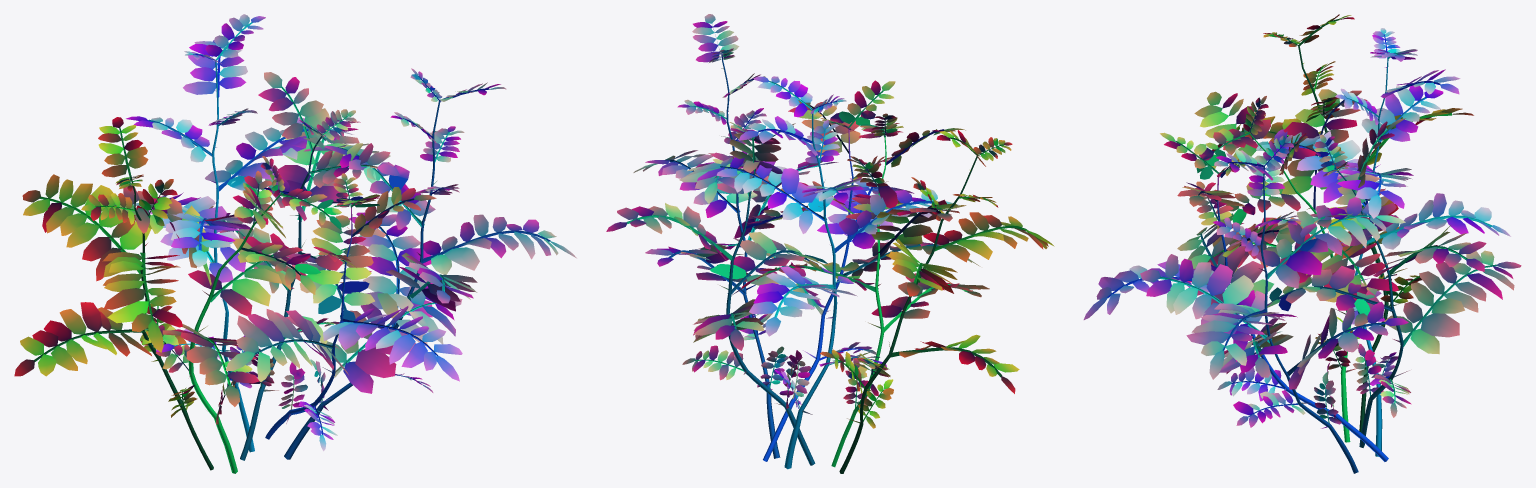
File: Black_Locust_wdvhberja_Mid_wdvhberja_VarD_LOD0.fbx
3 views of the same model, side by side, from view 1: azimuth 30°, elevation 25°; view 2: azimuth 150°, elevation 25°; view 3: azimuth 270°, elevation 25° (orthographic). The views are drawn at different scales.
Visible parts, largest first — view 1: _t888_VarD_LOD1; view 2: _t888_VarD_LOD1; view 3: _t888_VarD_LOD1.
Boxes of the visible parts, left/top/right/bottom form: _t888_VarD_LOD1: left=14, top=14, right=576, bottom=473; _t888_VarD_LOD1: left=606, top=14, right=1054, bottom=473; _t888_VarD_LOD1: left=1083, top=14, right=1521, bottom=473.
Size of the model in its own units: 56.51 by 47.86 by 45.99.
